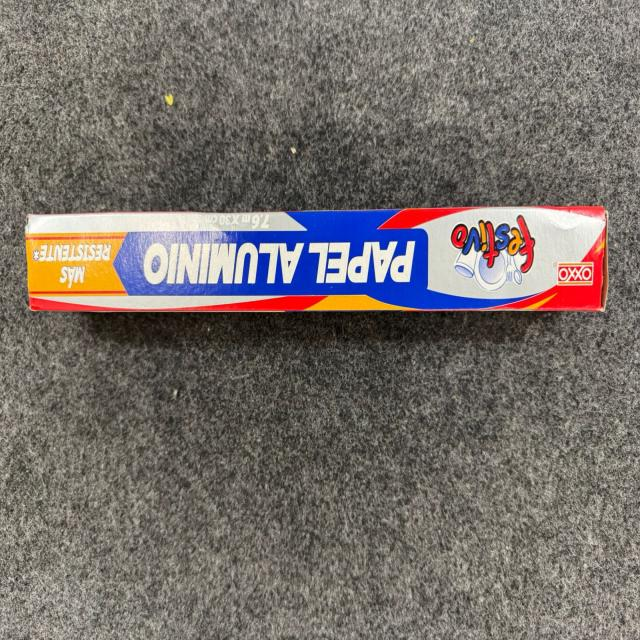Papel aluminio festivo rollo 76 m X 30 cm pz: (24, 206, 609, 314)
